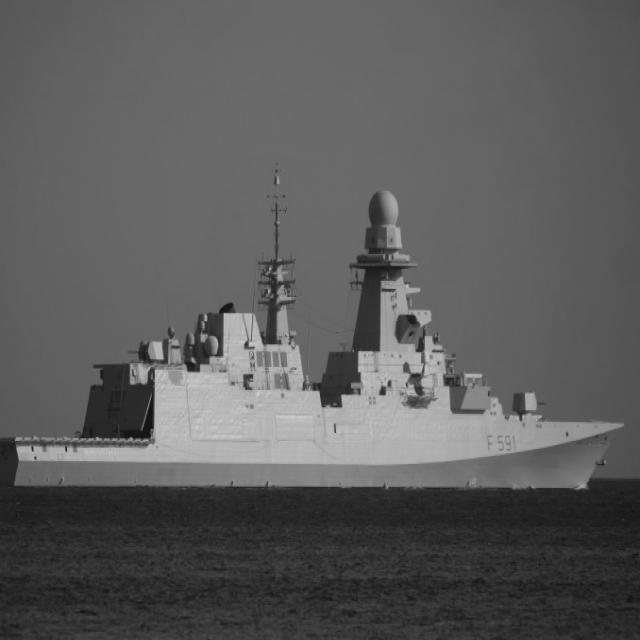Fragata: (1, 158, 627, 500)
